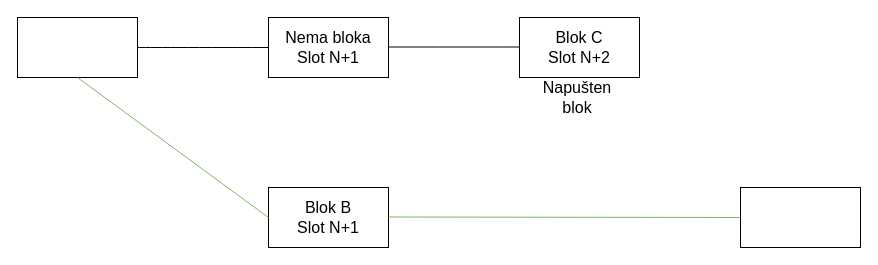
Image size: 878x265. Some labels were removed from this diagram. Each missing label, with the centre of its shape:
Blok A Slot N: point 77,47
Blok D Slot N+3: point 800,217
